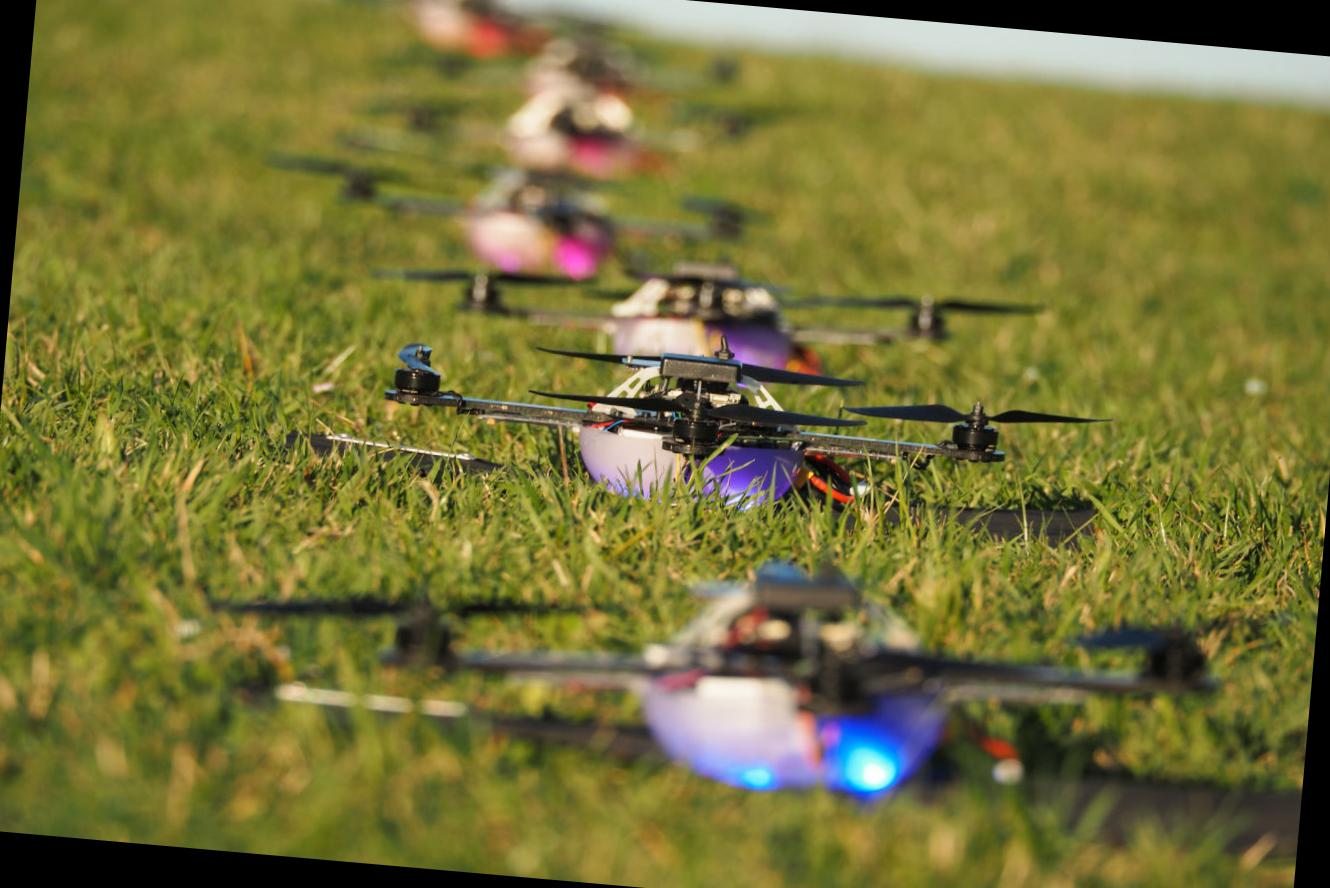drone: (218, 501, 1209, 862), (336, 320, 1102, 550), (352, 199, 1084, 422)
